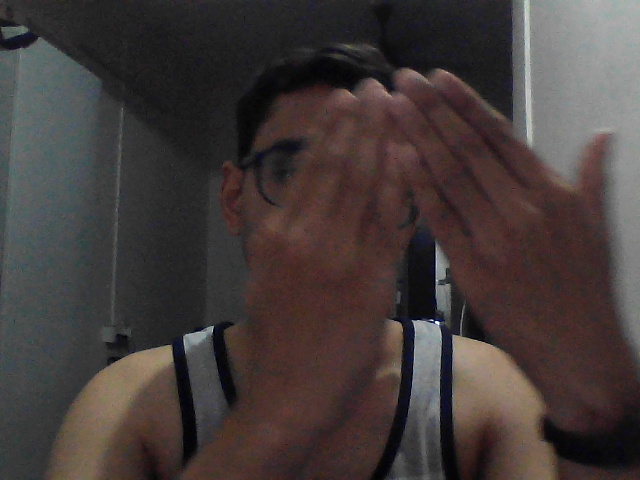Thank You: (229, 42, 634, 430)
